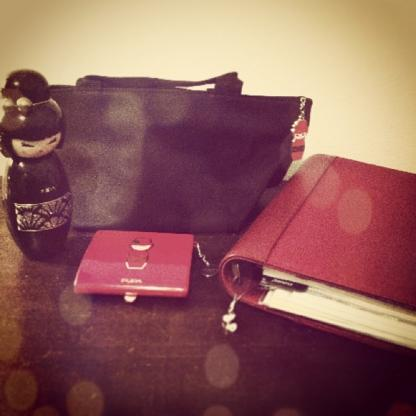book: (212, 146, 416, 348)
